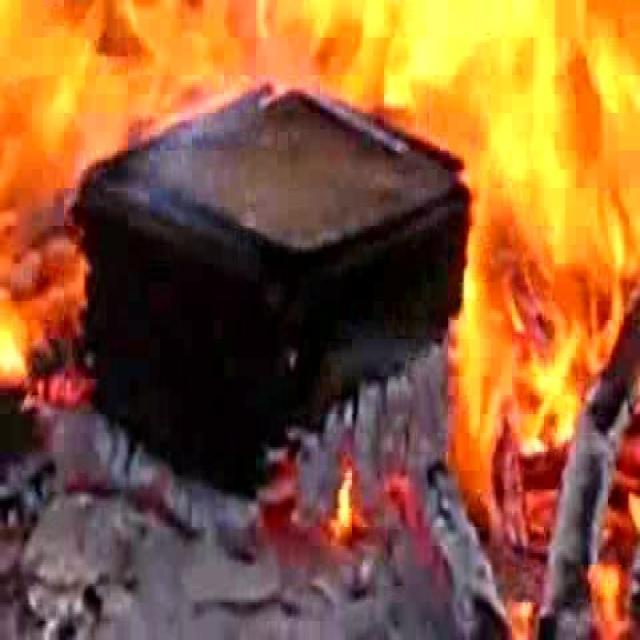Fire: (484, 22, 632, 405), (231, 10, 477, 156), (8, 15, 212, 123)
